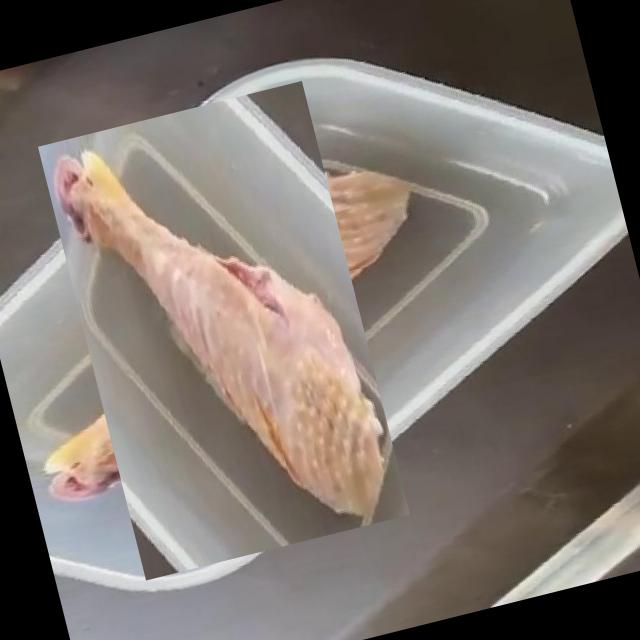chicken: (6, 112, 442, 548)
